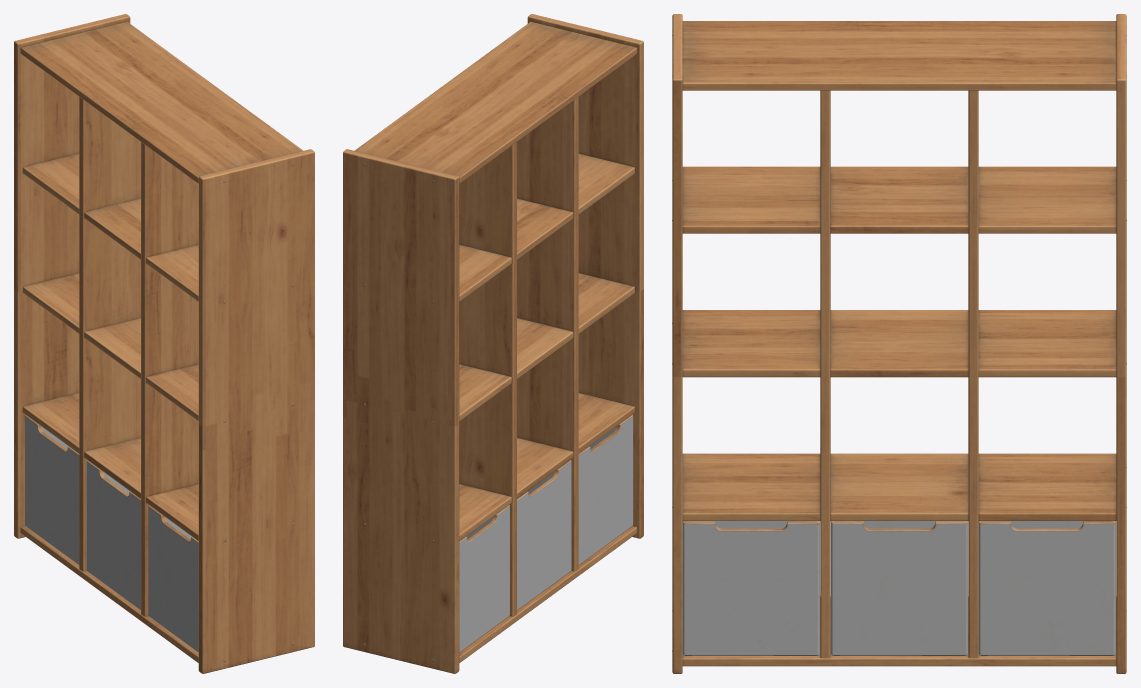
3 renders of one model, left to right at view 1: azimuth 30°, elevation 25°; view 2: azimuth 150°, elevation 25°; view 3: azimuth 270°, elevation 25°, orthographic. The views are drawn at different scales.
Parts seen in each view (by area): view 1: wooden_display_shelves_01, wooden_display_shelves_01_drawer_01, wooden_display_shelves_01_drawer_02, wooden_display_shelves_01_drawer_03; view 2: wooden_display_shelves_01, wooden_display_shelves_01_drawer_03, wooden_display_shelves_01_drawer_02, wooden_display_shelves_01_drawer_01; view 3: wooden_display_shelves_01, wooden_display_shelves_01_drawer_03, wooden_display_shelves_01_drawer_01, wooden_display_shelves_01_drawer_02.
Part boxes in pixels (x1,y1,x2,y2): wooden_display_shelves_01: [14, 14, 314, 673]; wooden_display_shelves_01_drawer_01: [25, 415, 79, 565]; wooden_display_shelves_01_drawer_02: [86, 460, 140, 610]; wooden_display_shelves_01_drawer_03: [148, 505, 198, 652]; wooden_display_shelves_01: [343, 14, 643, 673]; wooden_display_shelves_01_drawer_03: [578, 415, 633, 565]; wooden_display_shelves_01_drawer_02: [517, 460, 571, 610]; wooden_display_shelves_01_drawer_01: [459, 505, 509, 652]; wooden_display_shelves_01: [672, 14, 1126, 673]; wooden_display_shelves_01_drawer_03: [682, 521, 819, 655]; wooden_display_shelves_01_drawer_01: [978, 521, 1115, 655]; wooden_display_shelves_01_drawer_02: [831, 521, 967, 655].
Bounding box in the file's own units: 0.3715 × 1.56 × 1.08.
1 material, 1 textured.
